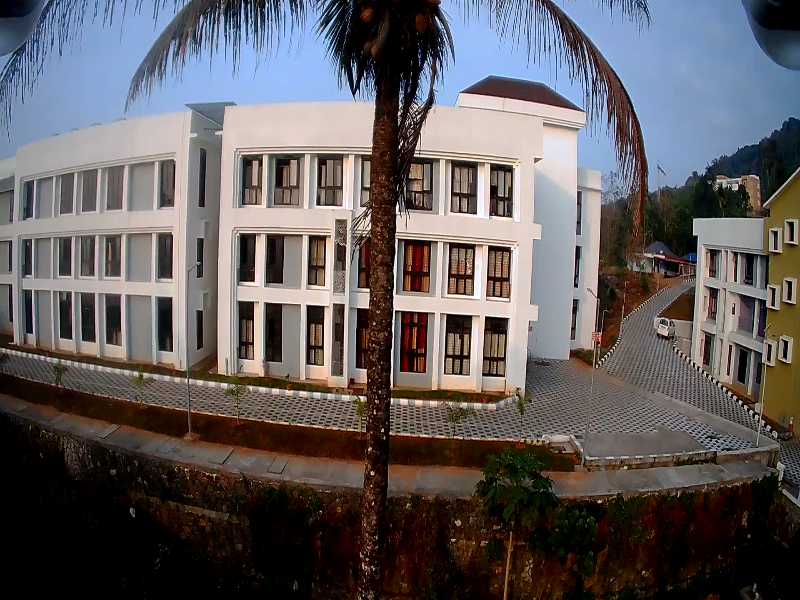coconut: (410, 13, 429, 33), (355, 7, 372, 26), (359, 40, 375, 56)
